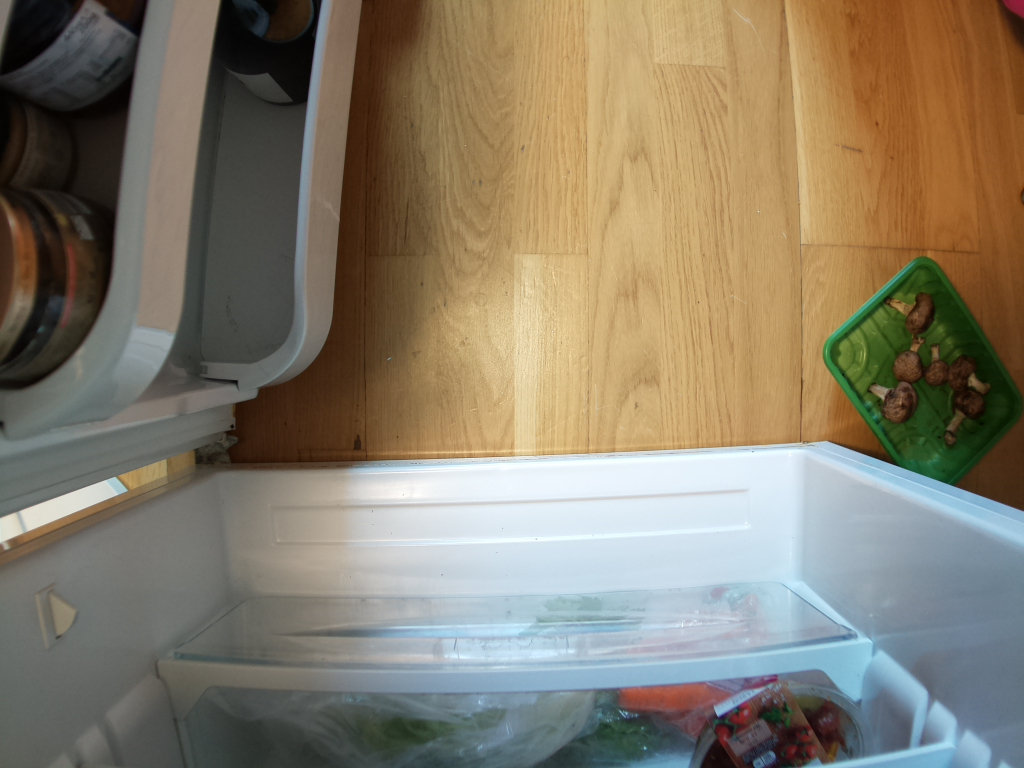mushrooms-bad: (827, 258, 1024, 493)
